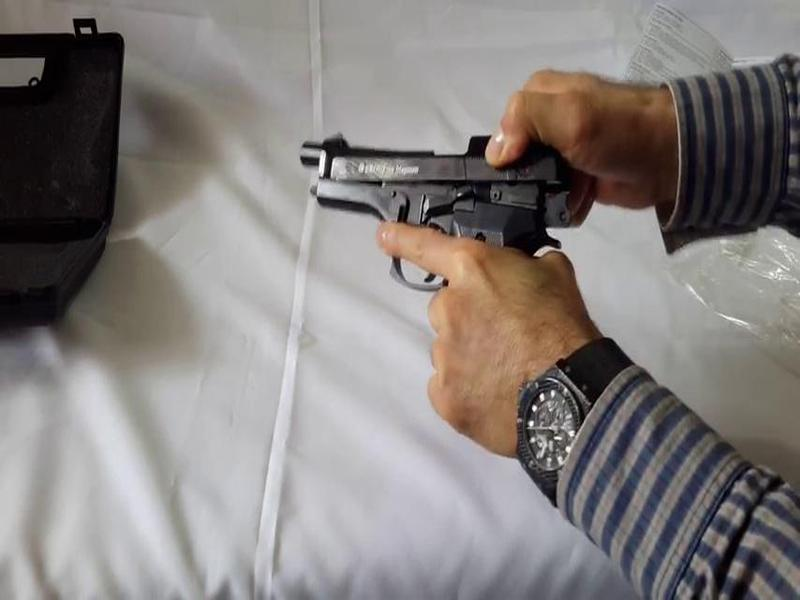Pistola: (271, 104, 599, 338)
